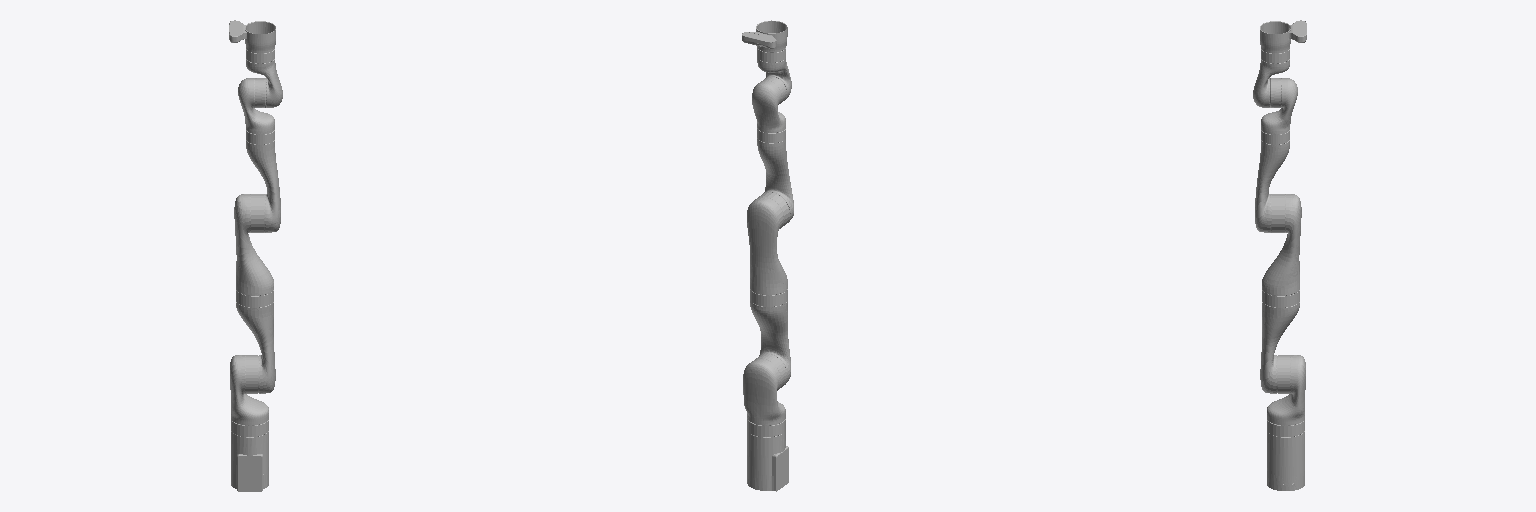
URDF robot description (GEN3_URDF_V12):
<?xml version="1.0"?>
<robot name="GEN3_URDF_V12" version="1.0">
    <link name="base_link">
        <inertial>
            <origin xyz="-0.000648 -0.000166 0.084487" rpy="0 0 0" />
            <mass value="1.697" />
            <inertia ixx="0.004622" ixy="9E-06" ixz="6E-05" iyy="0.004495" iyz="9E-06" izz="0.002079" />
        </inertial>
        <visual>
            <origin xyz="0 0 0" rpy="0 0 0" />
            <geometry>
                <mesh filename="../meshes/base_link.obj" />
            </geometry>
            <material name="">
                <color rgba="0.75294 0.75294 0.75294 1" />
            </material>
        </visual>
        <collision>
            <origin xyz="0 0 0" rpy="0 0 0" />
            <geometry>
                <mesh filename="../meshes/base_link.obj" />
            </geometry>
        </collision>
    </link>
    <link name="shoulder_link">
        <inertial>
            <origin xyz="-2.3E-05 -0.010364 -0.07336" rpy="0 0 0" />
            <mass value="1.3773" />
            <inertia ixx="0.00457" ixy="1E-06" ixz="2E-06" iyy="0.004831" iyz="0.000448" izz="0.001409" />
        </inertial>
        <visual>
            <origin xyz="0 0 0" rpy="0 0 0" />
            <geometry>
                <mesh filename="../meshes/shoulder_link.obj" />
            </geometry>
            <material name="">
                <color rgba="0.75294 0.75294 0.75294 1" />
            </material>
        </visual>
        <collision>
            <origin xyz="0 0 0" rpy="0 0 0" />
            <geometry>
                <mesh filename="../meshes/shoulder_link.obj" />
            </geometry>
        </collision>
    </link>
    <joint name="Actuator1" type="continuous">
        <origin xyz="0 0 0.15643" rpy="3.1416 2.7629E-18 -4.9305E-36" />
        <parent link="base_link" />
        <child link="shoulder_link" />
        <axis xyz="0 0 1" />
        <limit effort="39" velocity="0.8727" />
    </joint>
    <link name="half_arm_1_link">
        <inertial>
            <origin xyz="-4.4E-05 -0.09958 -0.013278" rpy="0 0 0" />
            <mass value="1.1636" />
            <inertia ixx="0.011088" ixy="5E-06" ixz="0" iyy="0.001072" iyz="-0.000691" izz="0.011255" />
        </inertial>
        <visual>
            <origin xyz="0 0 0" rpy="0 0 0" />
            <geometry>
                <mesh filename="../meshes/half_arm_1_link.obj" />
            </geometry>
            <material name="">
                <color rgba="0.75294 0.75294 0.75294 1" />
            </material>
        </visual>
        <collision>
            <origin xyz="0 0 0" rpy="0 0 0" />
            <geometry>
                <mesh filename="../meshes/half_arm_1_link.obj" />
            </geometry>
        </collision>
    </link>
    <joint name="Actuator2" type="revolute">
        <origin xyz="0 0.005375 -0.12838" rpy="1.5708 2.1343E-17 -1.1102E-16" />
        <parent link="shoulder_link" />
        <child link="half_arm_1_link" />
        <axis xyz="0 0 1" />
        <limit lower="-2.41" upper="2.41" effort="39" velocity="0.8727" />
    </joint>
    <link name="half_arm_2_link">
        <inertial>
            <origin xyz="-4.4E-05 -0.006641 -0.117892" rpy="0 0 0" />
            <mass value="1.1636" />
            <inertia ixx="0.010932" ixy="0" ixz="-7E-06" iyy="0.011127" iyz="0.000606" izz="0.001043" />
        </inertial>
        <visual>
            <origin xyz="0 0 0" rpy="0 0 0" />
            <geometry>
                <mesh filename="../meshes/half_arm_2_link.obj" />
            </geometry>
            <material name="">
                <color rgba="0.75294 0.75294 0.75294 1" />
            </material>
        </visual>
        <collision>
            <origin xyz="0 0 0" rpy="0 0 0" />
            <geometry>
                <mesh filename="../meshes/half_arm_2_link.obj" />
            </geometry>
        </collision>
    </link>
    <joint name="Actuator3" type="continuous">
        <origin xyz="0 -0.21038 -0.006375" rpy="-1.5708 1.2326E-32 -2.9122E-16" />
        <parent link="half_arm_1_link" />
        <child link="half_arm_2_link" />
        <axis xyz="0 0 1" />
        <limit effort="39" velocity="0.8727" />
    </joint>
    <link name="forearm_link">
        <inertial>
            <origin xyz="-1.8E-05 -0.075478 -0.015006" rpy="0 0 0" />
            <mass value="0.9302" />
            <inertia ixx="0.008147" ixy="-1E-06" ixz="0" iyy="0.000631" iyz="-0.0005" izz="0.008316" />
        </inertial>
        <visual>
            <origin xyz="0 0 0" rpy="0 0 0" />
            <geometry>
                <mesh filename="../meshes/forearm_link.obj" />
            </geometry>
            <material name="">
                <color rgba="0.75294 0.75294 0.75294 1" />
            </material>
        </visual>
        <collision>
            <origin xyz="0 0 0" rpy="0 0 0" />
            <geometry>
                <mesh filename="../meshes/forearm_link.obj" />
            </geometry>
        </collision>
    </link>
    <joint name="Actuator4" type="revolute">
        <origin xyz="0 0.006375 -0.21038" rpy="1.5708 -6.6954E-17 -1.6653E-16" />
        <parent link="half_arm_2_link" />
        <child link="forearm_link" />
        <axis xyz="0 0 1" />
        <limit lower="-2.66" upper="2.66" effort="39" velocity="0.8727" />
    </joint>
    <link name="spherical_wrist_1_link">
        <inertial>
            <origin xyz="1E-06 -0.009432 -0.063883" rpy="0 0 0" />
            <mass value="0.6781" />
            <inertia ixx="0.001596" ixy="0" ixz="0" iyy="0.001607" iyz="0.000256" izz="0.000399" />
        </inertial>
        <visual>
            <origin xyz="0 0 0" rpy="0 0 0" />
            <geometry>
                <mesh filename="../meshes/spherical_wrist_1_link.obj" />
            </geometry>
            <material name="">
                <color rgba="0.75294 0.75294 0.75294 1" />
            </material>
        </visual>
        <collision>
            <origin xyz="0 0 0" rpy="0 0 0" />
            <geometry>
                <mesh filename="../meshes/spherical_wrist_1_link.obj" />
            </geometry>
        </collision>
    </link>
    <joint name="Actuator5" type="continuous">
        <origin xyz="0 -0.20843 -0.006375" rpy="-1.5708 2.2204E-16 -6.373E-17" />
        <parent link="forearm_link" />
        <child link="spherical_wrist_1_link" />
        <axis xyz="0 0 1" />
        <limit effort="9" velocity="0.8727" />
    </joint>
    <link name="spherical_wrist_2_link">
        <inertial>
            <origin xyz="1E-06 -0.045483 -0.00965" rpy="0 0 0" />
            <mass value="0.6781" />
            <inertia ixx="0.001641" ixy="0" ixz="0" iyy="0.00041" iyz="-0.000278" izz="0.001641" />
        </inertial>
        <visual>
            <origin xyz="0 0 0" rpy="0 0 0" />
            <geometry>
                <mesh filename="../meshes/spherical_wrist_2_link.obj" />
            </geometry>
            <material name="">
                <color rgba="0.75294 0.75294 0.75294 1" />
            </material>
        </visual>
        <collision>
            <origin xyz="0 0 0" rpy="0 0 0" />
            <geometry>
                <mesh filename="../meshes/spherical_wrist_2_link.obj" />
            </geometry>
        </collision>
    </link>
    <joint name="Actuator6" type="revolute">
        <origin xyz="0 0.00017505 -0.10593" rpy="1.5708 9.2076E-28 -8.2157E-15" />
        <parent link="spherical_wrist_1_link" />
        <child link="spherical_wrist_2_link" />
        <axis xyz="0 0 1" />
        <limit lower="-2.23" upper="2.23" effort="9" velocity="0.8727" />
    </joint>
    <link name="bracelet_with_vision_link">
        <inertial>
            <origin xyz="-0.000281 -0.011402 -0.029798" rpy="0 0 0" />
            <mass value="0.5006" />
            <inertia ixx="0.000587" ixy="3E-06" ixz="3E-06" iyy="0.000369" iyz="0.000118" izz="0.000609" />
        </inertial>
        <visual>
            <origin xyz="0 0 0" rpy="0 0 0" />
            <geometry>
                <mesh filename="../meshes/bracelet_with_vision_link.obj" />
            </geometry>
            <material name="">
                <color rgba="0.75294 0.75294 0.75294 1" />
            </material>
        </visual>
        <collision>
            <origin xyz="0 0 0" rpy="0 0 0" />
            <geometry>
                <mesh filename="../meshes/bracelet_with_vision_link.obj" />
            </geometry>
        </collision>
    </link>
    <joint name="Actuator7" type="continuous">
        <origin xyz="0 -0.10593 -0.00017505" rpy="-1.5708 -5.5511E-17 9.6396E-17" />
        <parent link="spherical_wrist_2_link" />
        <child link="bracelet_with_vision_link" />
        <axis xyz="0 0 1" />
        <limit effort="9" velocity="0.8727" />
    </joint>
    <link name="end_effector_link" />
    <joint name="EndEffector" type="fixed">
        <origin xyz="0 0 -0.0615250000000001" rpy="3.14159265358979 1.09937075168372E-32 0" />
        <parent link="bracelet_with_vision_link" />
        <child link="end_effector_link" />
        <axis xyz="0 0 0" />
    </joint>
    
    <transmission name="Actuator1_transmission" >
        <type>transmission_interface/SimpleTransmission</type>
        <joint name="Actuator1" />
        <actuator name="motor_1" />
    </transmission>
    <transmission name="Actuator2_transmission" >
        <type>transmission_interface/SimpleTransmission</type>
        <joint name="Actuator2" />
        <actuator name="motor_2" />
    </transmission>
    <transmission name="Actuator3_transmission" >
        <type>transmission_interface/SimpleTransmission</type>
        <joint name="Actuator3" />
        <actuator name="motor_3" />
    </transmission>
    <transmission name="Actuator4_transmission" >
        <type>transmission_interface/SimpleTransmission</type>
        <joint name="Actuator4" />
        <actuator name="motor_4" />
    </transmission>
    <transmission name="Actuator5_transmission" >
        <type>transmission_interface/SimpleTransmission</type>
        <joint name="Actuator5" />
        <actuator name="motor_5" />
    </transmission>
    <transmission name="Actuator6_transmission" >
        <type>transmission_interface/SimpleTransmission</type>
        <joint name="Actuator6" />
        <actuator name="motor_6" />
    </transmission>
    <transmission name="Actuator7_transmission" >
        <type>transmission_interface/SimpleTransmission</type>
        <joint name="Actuator7" />
        <actuator name="motor_7" />
    </transmission>
</robot>

--- Facts derived from the render (not from the file) ---
Views: 3 orthographic renders of the robot side by side, from view 1: azimuth 90°, elevation 25°; view 2: azimuth 150°, elevation 25°; view 3: azimuth 270°, elevation 25°.
Robot: GEN3_URDF_V12 — 9 links, 8 joints (3 revolute, 4 continuous, 1 fixed); root link base_link; default pose: every joint at zero.
Links seen in each view (by area): view 1: half_arm_2_link, base_link, half_arm_1_link, shoulder_link, forearm_link, spherical_wrist_1_link, bracelet_with_vision_link, spherical_wrist_2_link; view 2: half_arm_2_link, base_link, shoulder_link, half_arm_1_link, forearm_link, spherical_wrist_1_link, bracelet_with_vision_link, spherical_wrist_2_link; view 3: half_arm_2_link, base_link, half_arm_1_link, shoulder_link, forearm_link, spherical_wrist_1_link, bracelet_with_vision_link, spherical_wrist_2_link.
Link boxes in pixels (bbox=[...]): half_arm_2_link: bbox=[234, 194, 273, 295]; base_link: bbox=[231, 420, 268, 491]; half_arm_1_link: bbox=[236, 290, 275, 393]; shoulder_link: bbox=[230, 355, 268, 425]; forearm_link: bbox=[246, 130, 280, 232]; spherical_wrist_1_link: bbox=[238, 78, 274, 134]; bracelet_with_vision_link: bbox=[229, 20, 275, 53]; spherical_wrist_2_link: bbox=[246, 49, 282, 107]; half_arm_2_link: bbox=[747, 192, 789, 295]; base_link: bbox=[747, 418, 788, 491]; shoulder_link: bbox=[743, 354, 786, 425]; half_arm_1_link: bbox=[750, 289, 790, 384]; forearm_link: bbox=[757, 128, 793, 222]; spherical_wrist_1_link: bbox=[752, 76, 786, 132]; bracelet_with_vision_link: bbox=[742, 20, 787, 52]; spherical_wrist_2_link: bbox=[757, 48, 791, 100]; half_arm_2_link: bbox=[1262, 194, 1301, 295]; base_link: bbox=[1267, 420, 1304, 490]; half_arm_1_link: bbox=[1260, 290, 1299, 393]; shoulder_link: bbox=[1267, 355, 1305, 425]; forearm_link: bbox=[1255, 130, 1289, 232]; spherical_wrist_1_link: bbox=[1261, 78, 1297, 134]; bracelet_with_vision_link: bbox=[1260, 20, 1306, 53]; spherical_wrist_2_link: bbox=[1253, 49, 1289, 107].
Size in the robot's own frame: 0.0928 by 0.1278 by 1.19 metres.
8 mesh visuals loaded from 8 distinct referenced files (8 OBJ).